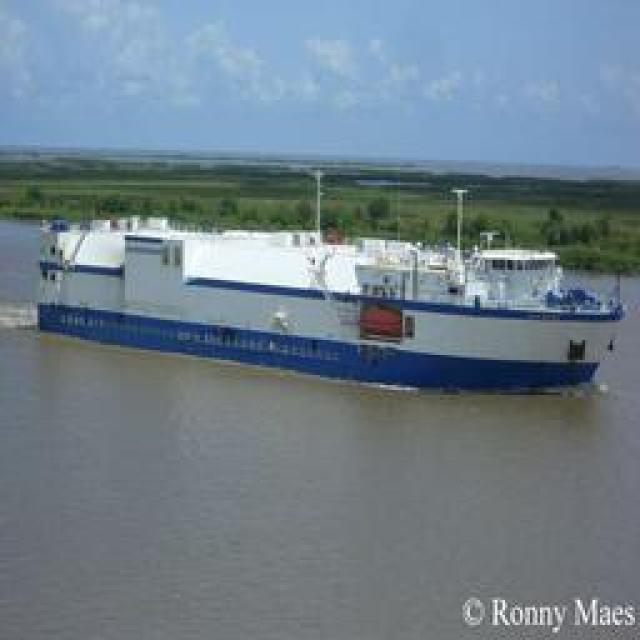Ship: (57, 217, 627, 400)
